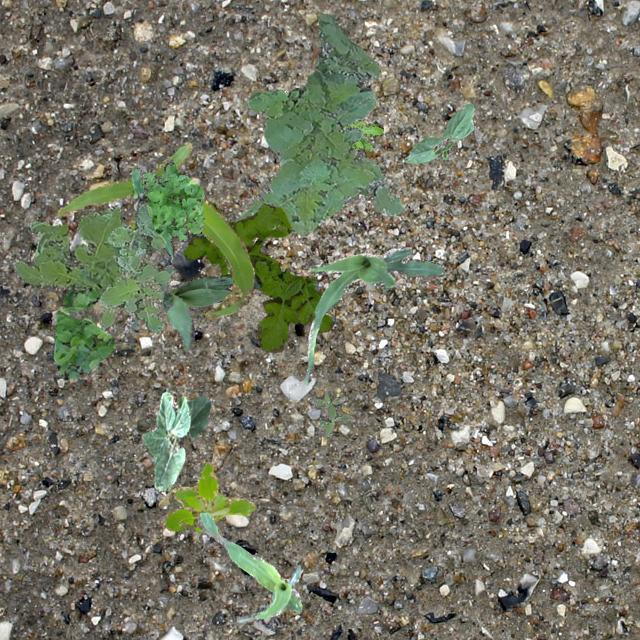crop: (56, 142, 254, 318), (304, 246, 442, 384), (122, 264, 260, 350), (196, 512, 302, 622), (140, 390, 212, 490), (403, 102, 472, 162)
weed: (235, 12, 402, 234), (182, 200, 332, 352), (10, 205, 120, 298), (99, 204, 170, 330), (163, 460, 254, 536), (130, 160, 202, 256), (53, 284, 114, 378), (308, 390, 352, 436), (342, 118, 382, 150), (174, 499, 182, 506)
